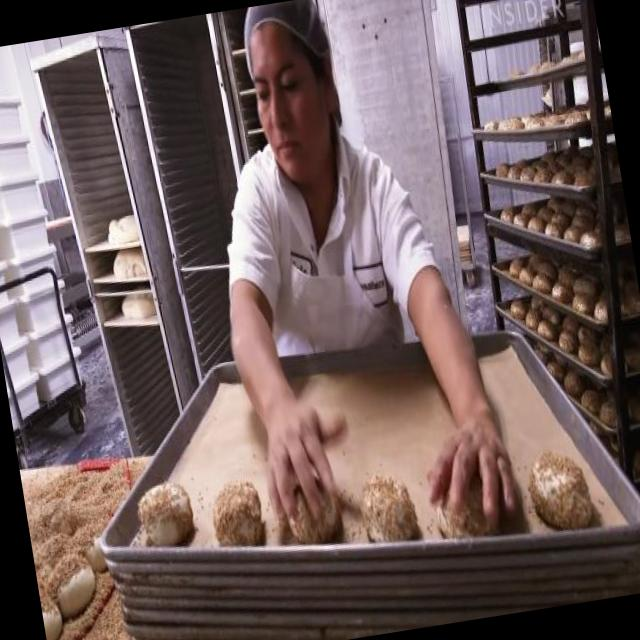hairnet: (236, 0, 333, 71)
